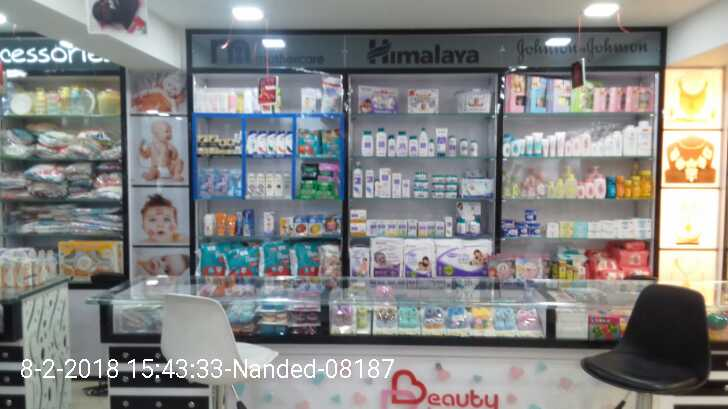venus: (212, 168, 229, 194), (197, 168, 212, 194), (230, 169, 242, 195)
